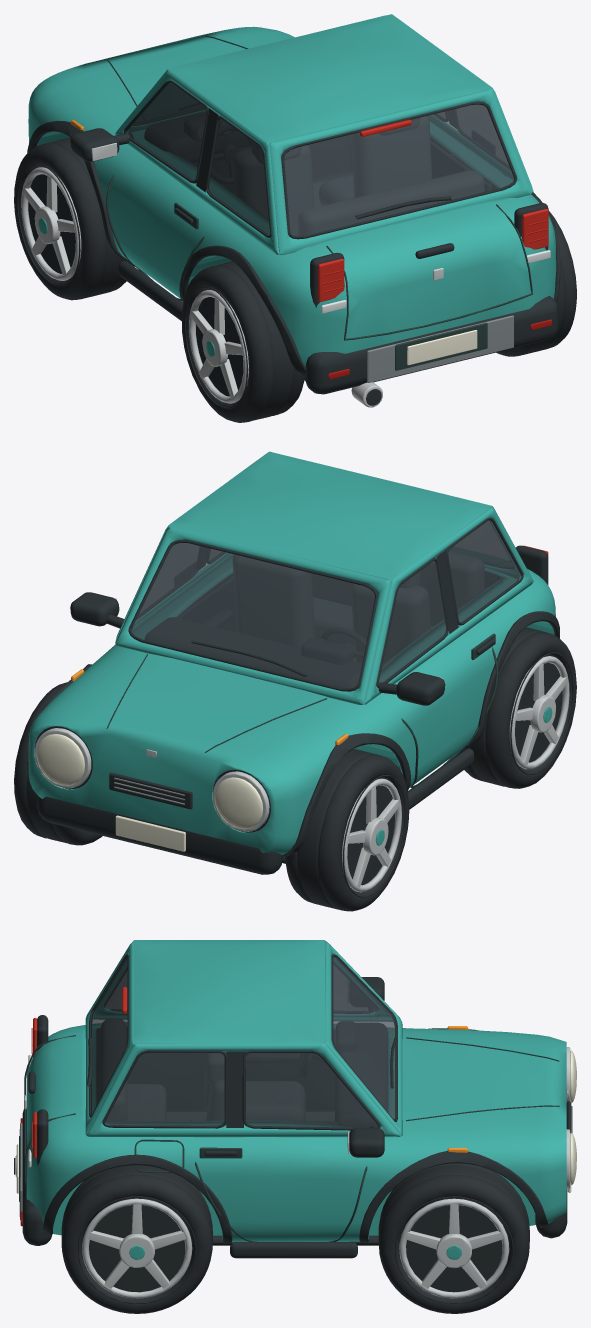
The model's file is compact_v1_lod1.fbx.
3 views of the same model, one above another, from view 1: azimuth 30°, elevation 25°; view 2: azimuth 150°, elevation 25°; view 3: azimuth 270°, elevation 25° (orthographic). The views are drawn at different scales.
Visible parts, largest first — view 1: Body, Wheel_RL_Mesh, Wheel_FL_Mesh, Wheel_RR_Mesh; view 2: Body, Wheel_FL_Mesh, Wheel_RL_Mesh, Wheel_FR_Mesh; view 3: Body, Wheel_FR_Mesh, Wheel_RR_Mesh.
Boxes of the visible parts, x1,y1,x2,y2 form: Body: (27,14,560,407); Wheel_RL_Mesh: (181,261,304,422); Wheel_FL_Mesh: (14,137,134,300); Wheel_RR_Mesh: (496,210,576,356); Body: (27,451,559,874); Wheel_FL_Mesh: (285,749,409,911); Wheel_RL_Mesh: (458,627,576,788); Wheel_FR_Mesh: (14,682,102,845); Body: (14,940,576,1258); Wheel_FR_Mesh: (378,1163,529,1313); Wheel_RR_Mesh: (61,1165,212,1313).
Bounding box in the file's own units: 222 × 161 × 316.
